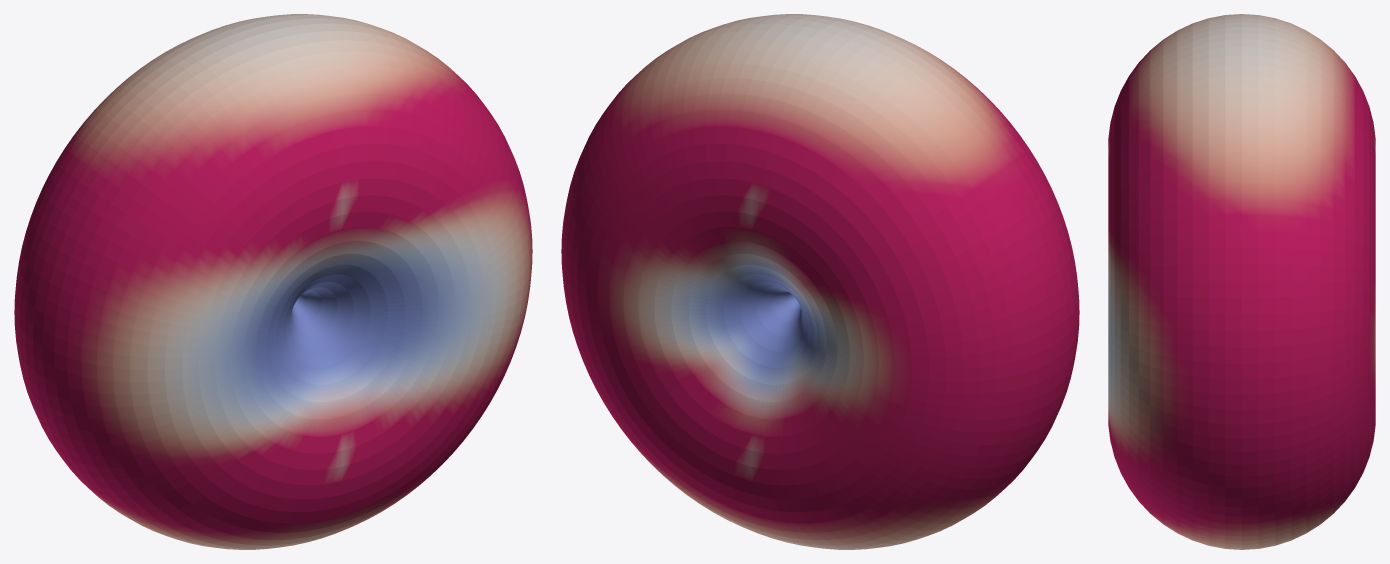
3 renders of one model, left to right at view 1: azimuth 30°, elevation 25°; view 2: azimuth 150°, elevation 25°; view 3: azimuth 270°, elevation 25°, orthographic. The views are drawn at different scales.
Visible parts, largest first — view 1: world; view 2: world; view 3: world.
Boxes of the visible parts, bbox=[...] form: world: bbox=[14, 14, 532, 549]; world: bbox=[561, 14, 1079, 549]; world: bbox=[1108, 14, 1375, 549].
Bounding box in the file's own units: 20 × 20 × 9.98.
